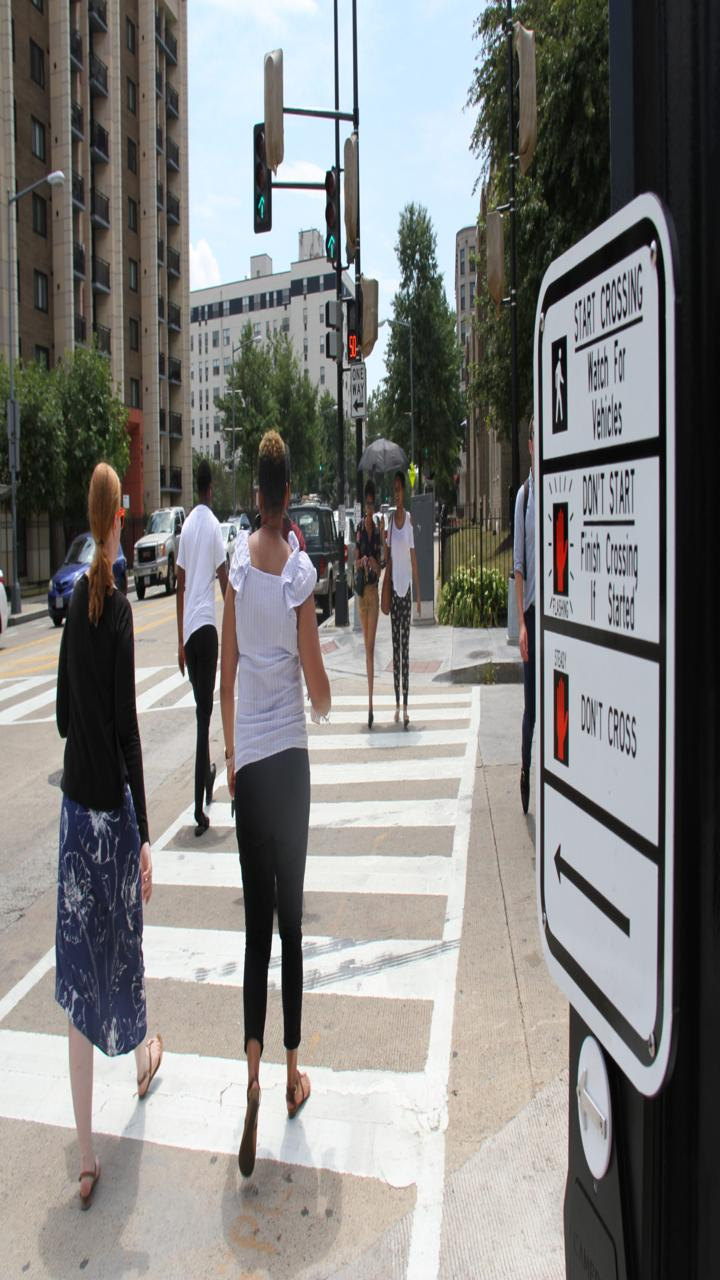Traffic sign: (243, 168, 278, 235), (330, 299, 365, 366)
pedestrian: (34, 445, 190, 1219), (232, 418, 342, 1195), (171, 432, 227, 904), (356, 461, 391, 769), (393, 459, 428, 767)
